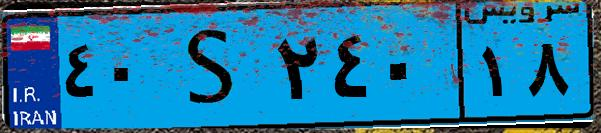0: (385, 28, 445, 110), (110, 28, 158, 98)
1: (475, 38, 525, 113)
2: (270, 28, 330, 110)
4: (330, 28, 385, 110), (57, 26, 110, 100)
8: (525, 38, 570, 115)
S: (158, 12, 270, 120)
